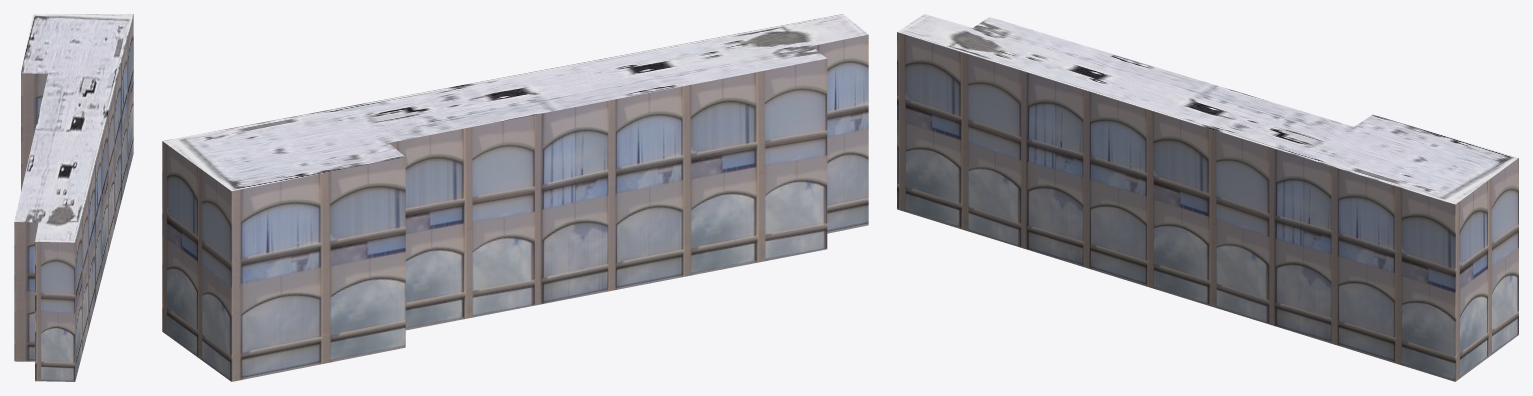
The model's file is RelTex__2.fbx.
The picture shows the model from 3 angles, left to right: view 1: azimuth 30°, elevation 25°; view 2: azimuth 150°, elevation 25°; view 3: azimuth 270°, elevation 25°; orthographic projection. The views are drawn at different scales.
Parts seen in each view (by area): view 1: CityEngineMaterial_5_m, CityEngineMaterial_4_m; view 2: CityEngineMaterial_5_m, CityEngineMaterial_4_m; view 3: CityEngineMaterial_5_m, CityEngineMaterial_4_m.
Boxes of the visible parts, x1,y1,x2,y2 form: CityEngineMaterial_5_m: (14, 15, 133, 381); CityEngineMaterial_4_m: (14, 14, 133, 242); CityEngineMaterial_5_m: (162, 34, 868, 381); CityEngineMaterial_4_m: (162, 14, 868, 191); CityEngineMaterial_5_m: (897, 32, 1518, 381); CityEngineMaterial_4_m: (897, 14, 1518, 204).
Bounding box in the file's own units: 20.78 × 9 × 28.61.
2 materials, 2 textured.
